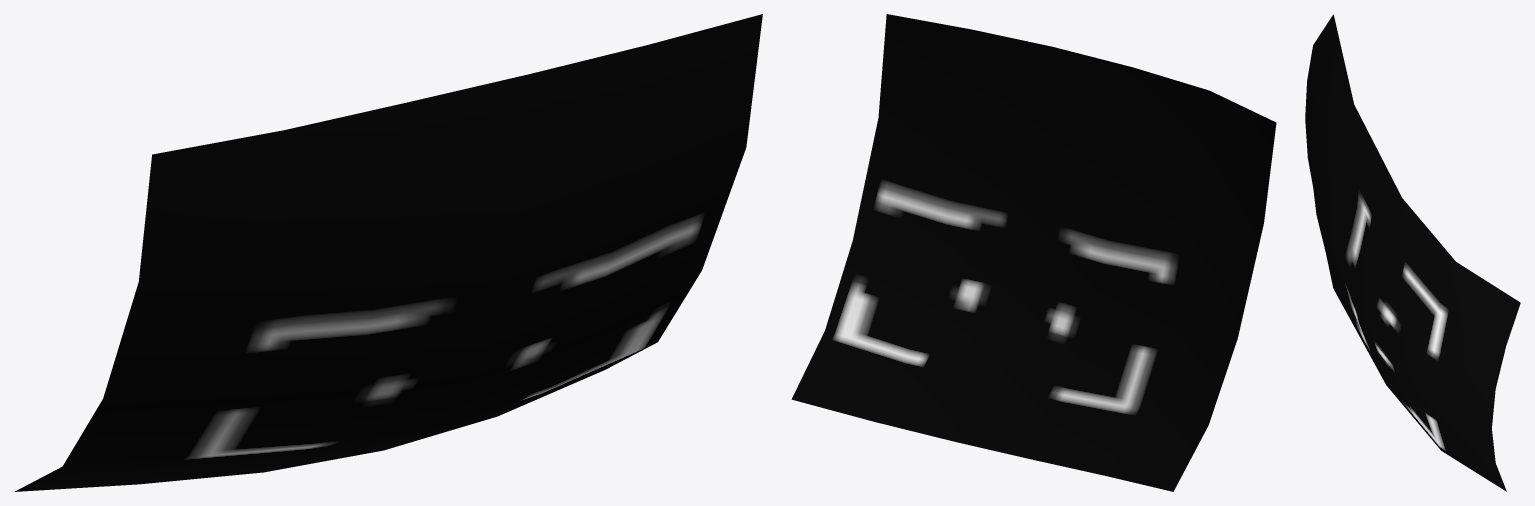
Rendered from Beard 03.glb.
3 views of the same model, side by side, from view 1: azimuth 30°, elevation 25°; view 2: azimuth 150°, elevation 25°; view 3: azimuth 270°, elevation 25° (orthographic). The views are drawn at different scales.
Visible parts, largest first — view 1: Beard_3; view 2: Beard_3; view 3: Beard_3.
Part boxes in pixels (x1,y1,x2,y2): Beard_3: (14,14,762,491); Beard_3: (791,14,1276,491); Beard_3: (1305,14,1520,491).
Bounding box in the file's own units: 0.00228 × 0.00176 × 0.00111.
Materials: 1 (1 with a texture image).
